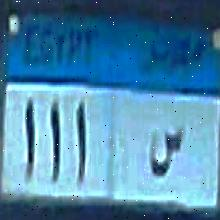1: (18, 96, 40, 186), (72, 94, 92, 186), (46, 96, 64, 192)
seen: (144, 116, 184, 189)
